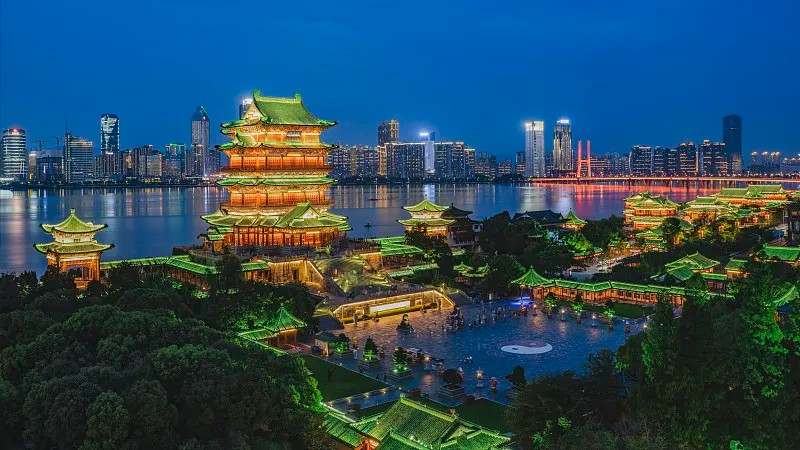Teng: (196, 89, 353, 255)
